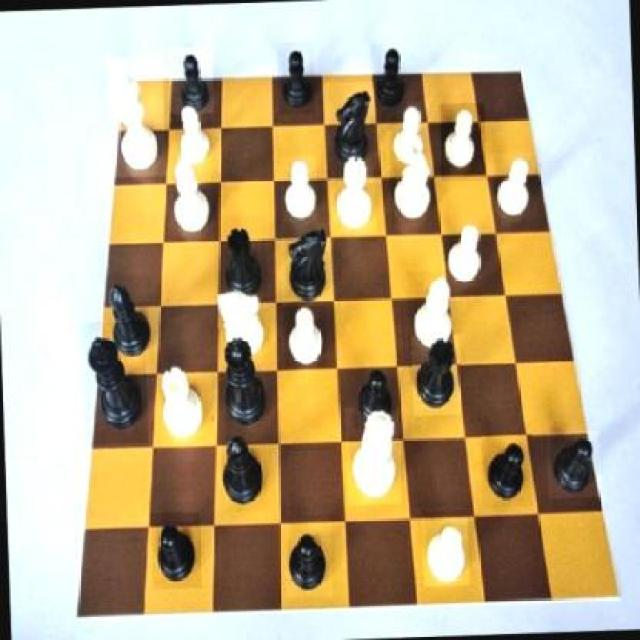bishop: (101, 272, 154, 366), (214, 428, 267, 512)
black-bishop: (82, 320, 148, 444)
black-king: (278, 223, 336, 308), (323, 82, 377, 168)
black-knight: (151, 512, 203, 590), (482, 434, 536, 508), (283, 524, 333, 598), (546, 431, 600, 498), (169, 46, 214, 114), (351, 362, 397, 428), (276, 42, 314, 114), (370, 43, 408, 107)
black-pawn: (211, 326, 273, 434)
black-queen: (214, 214, 268, 301), (411, 335, 461, 418)
black-rook: (166, 151, 213, 241), (406, 269, 456, 352)
white-bishop: (106, 55, 166, 178)
white-king: (216, 286, 266, 366), (390, 148, 436, 224)
white-knight: (440, 103, 488, 181), (422, 517, 469, 587), (489, 153, 538, 220), (384, 100, 430, 170), (170, 96, 212, 172), (282, 302, 326, 368), (443, 220, 485, 287), (280, 156, 318, 224)
white-pawn: (345, 406, 402, 506)
white-queen: (154, 356, 209, 444), (329, 151, 376, 235)
